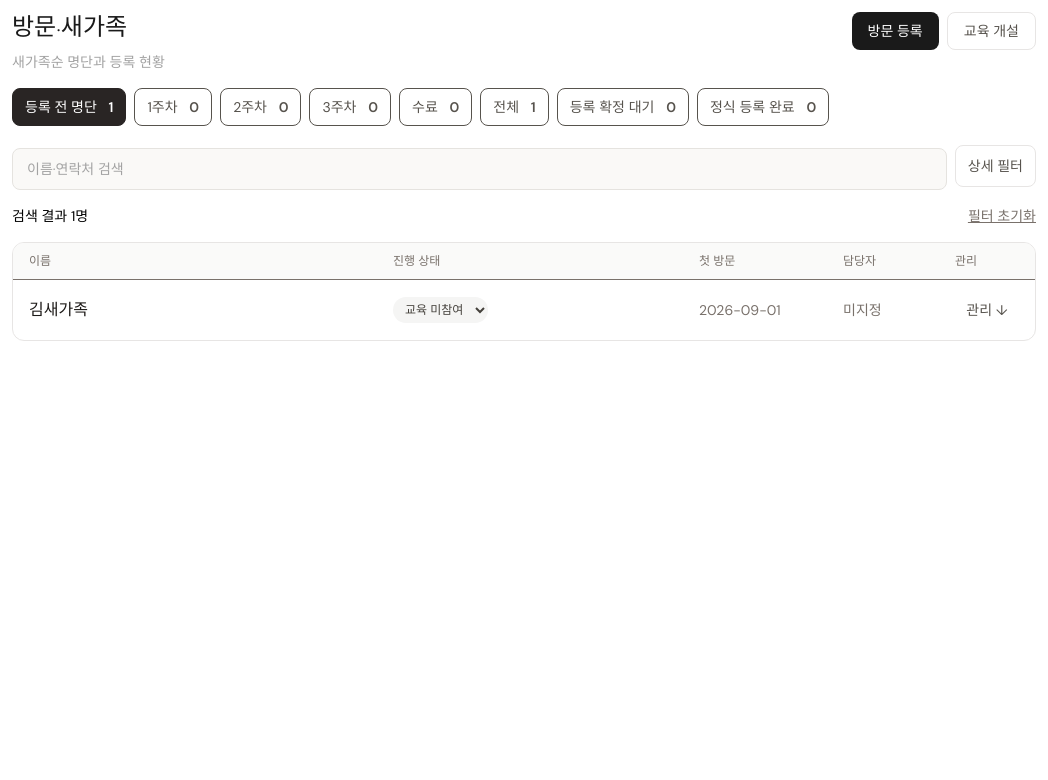
Test: 상세 필터를 접어도 선택한 조건을 유지하고 적용 수를 표시한다
Step 1. Click the button "상세 필터" → click(995, 166), box left=955, top=145, right=1036, bottom=187
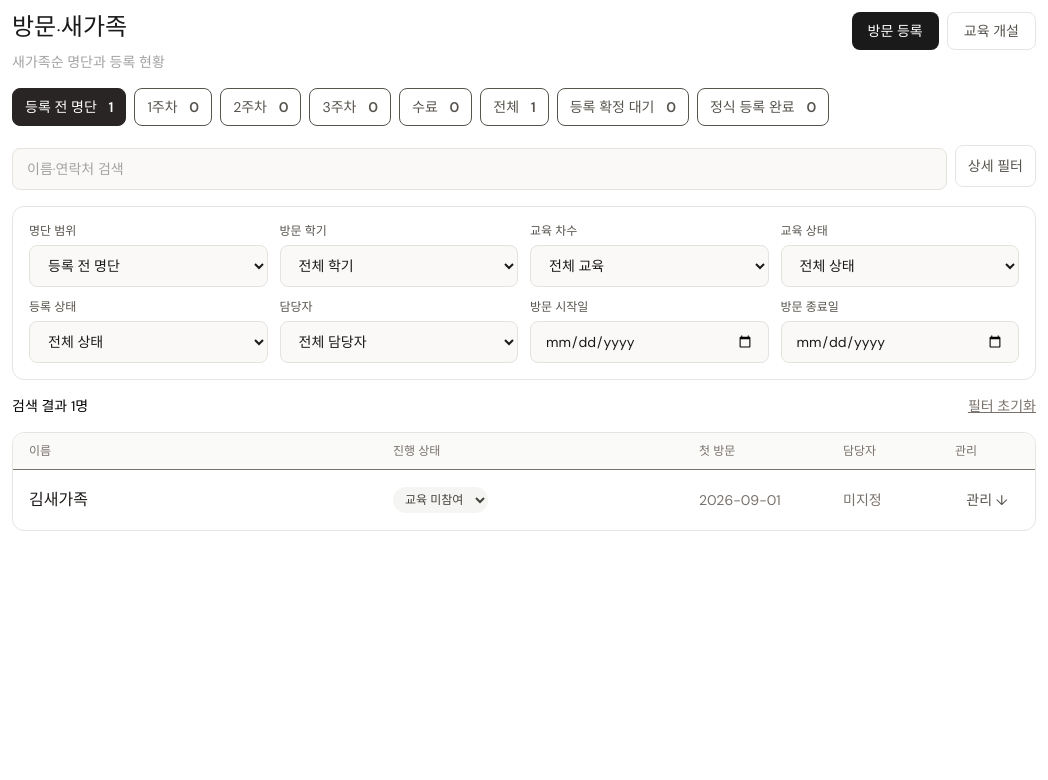
Step 2. Select "이수" in the dropdown labelled "교육 상태" → (900, 266), box left=780, top=245, right=1019, bottom=287
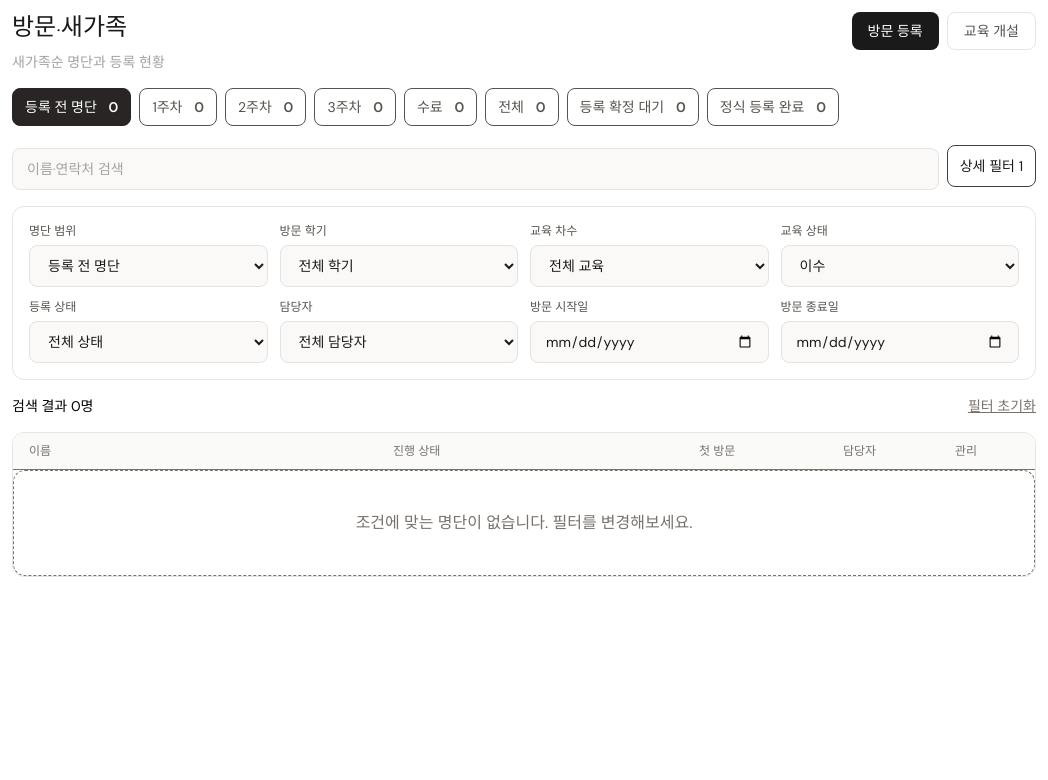
Step 3. Click the button "상세 필터 1" → click(991, 166), box left=947, top=145, right=1036, bottom=187
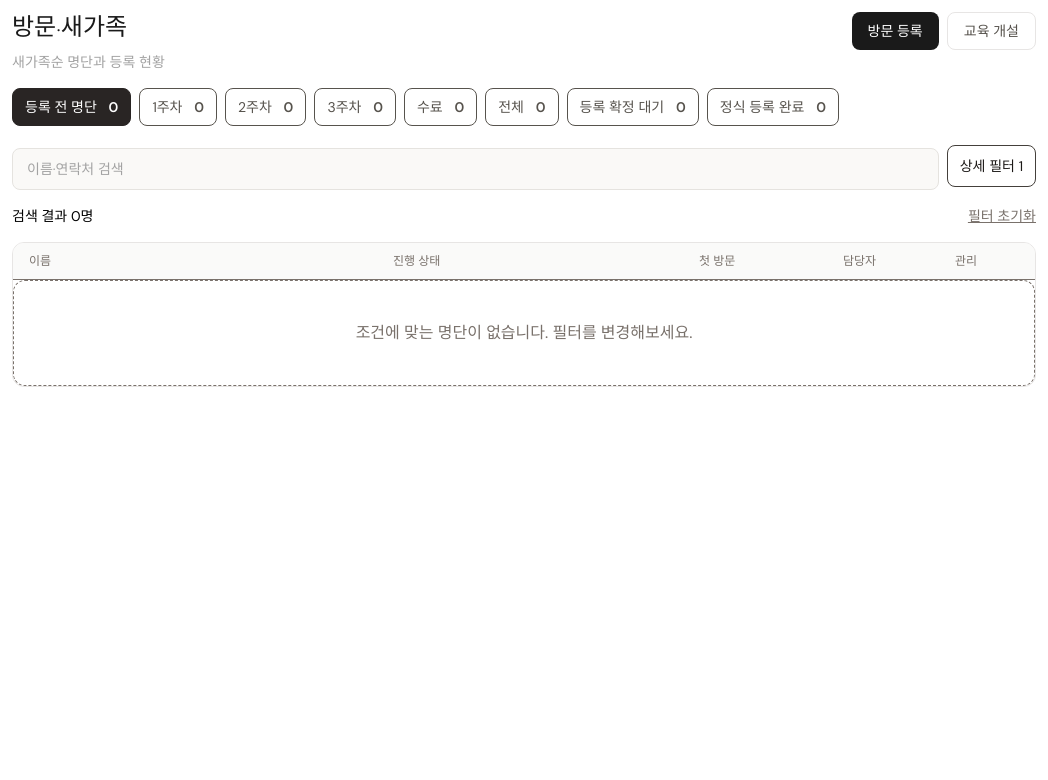
expect the text "검색 결과 0명" is shown: met, box left=12, top=206, right=93, bottom=226
Step 4. Click the button "필터 초기화" → click(1002, 216), box left=968, top=206, right=1036, bottom=226
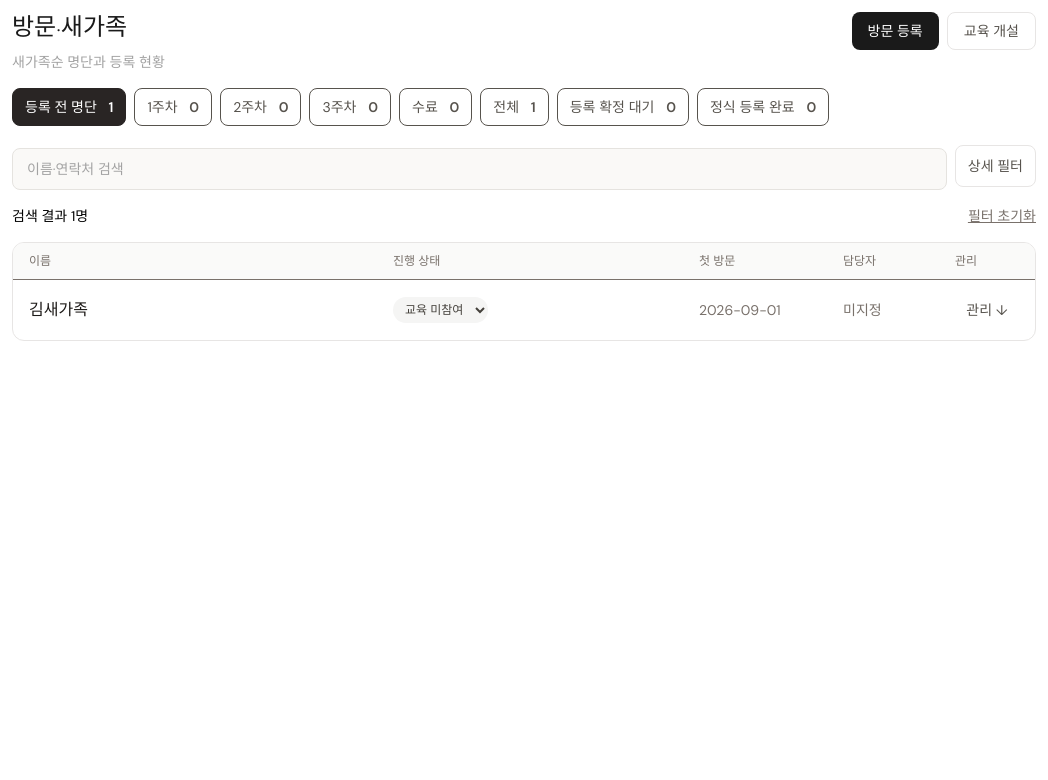
expect the text "검색 결과 1명" is shown: met, box left=12, top=206, right=88, bottom=226
